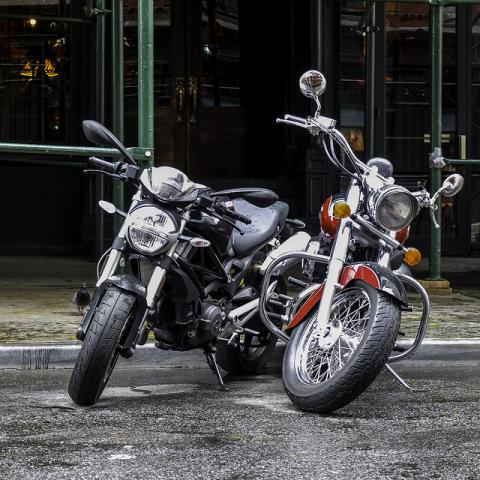motorcycle: (255, 67, 467, 421), (67, 121, 306, 408)
